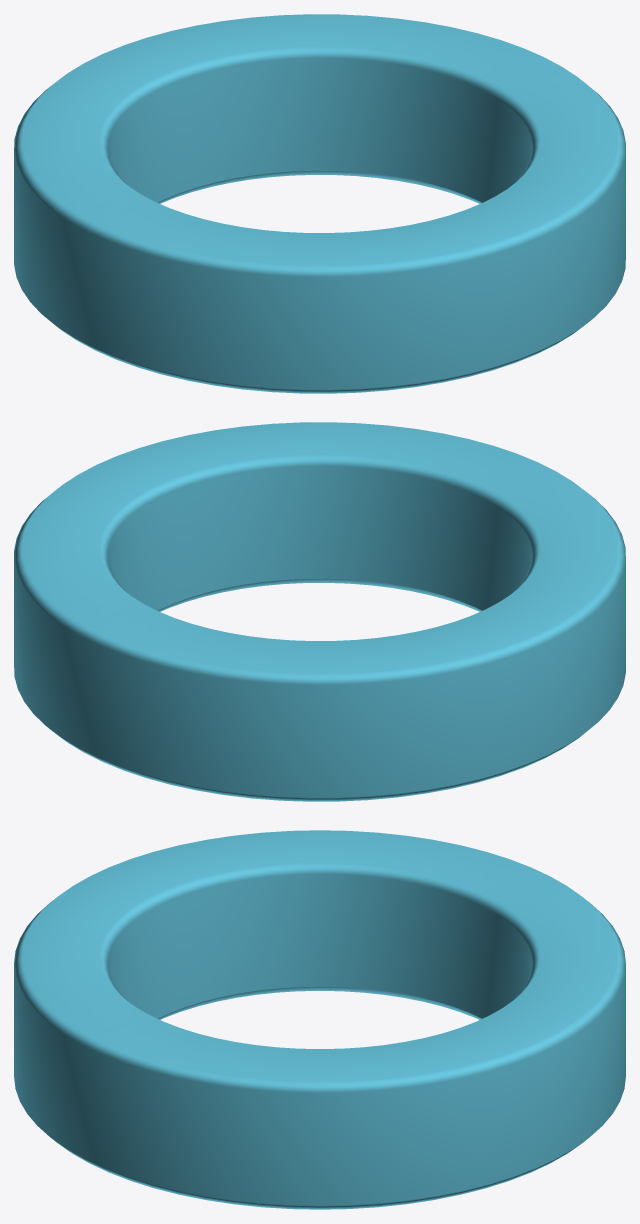
3 views of the same model, one above another, from view 1: azimuth 30°, elevation 25°; view 2: azimuth 150°, elevation 25°; view 3: azimuth 270°, elevation 25° (orthographic).
Parts seen in each view (by area): view 1: seal_body; view 2: seal_body; view 3: seal_body.
Part boxes in pixels (x1,y1,x2,y2): seal_body: (14,14,625,393); seal_body: (14,422,625,801); seal_body: (14,830,625,1209).
Bounding box in the file's own units: 0.0413 × 0.00952 × 0.0413.
